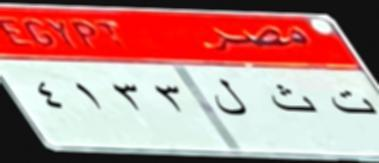1: (74, 82, 102, 117)
3: (110, 78, 142, 116), (153, 80, 184, 116)
4: (33, 78, 64, 116)
laam: (208, 74, 250, 124)
taa: (325, 86, 376, 121)
thaa: (268, 80, 320, 121)
